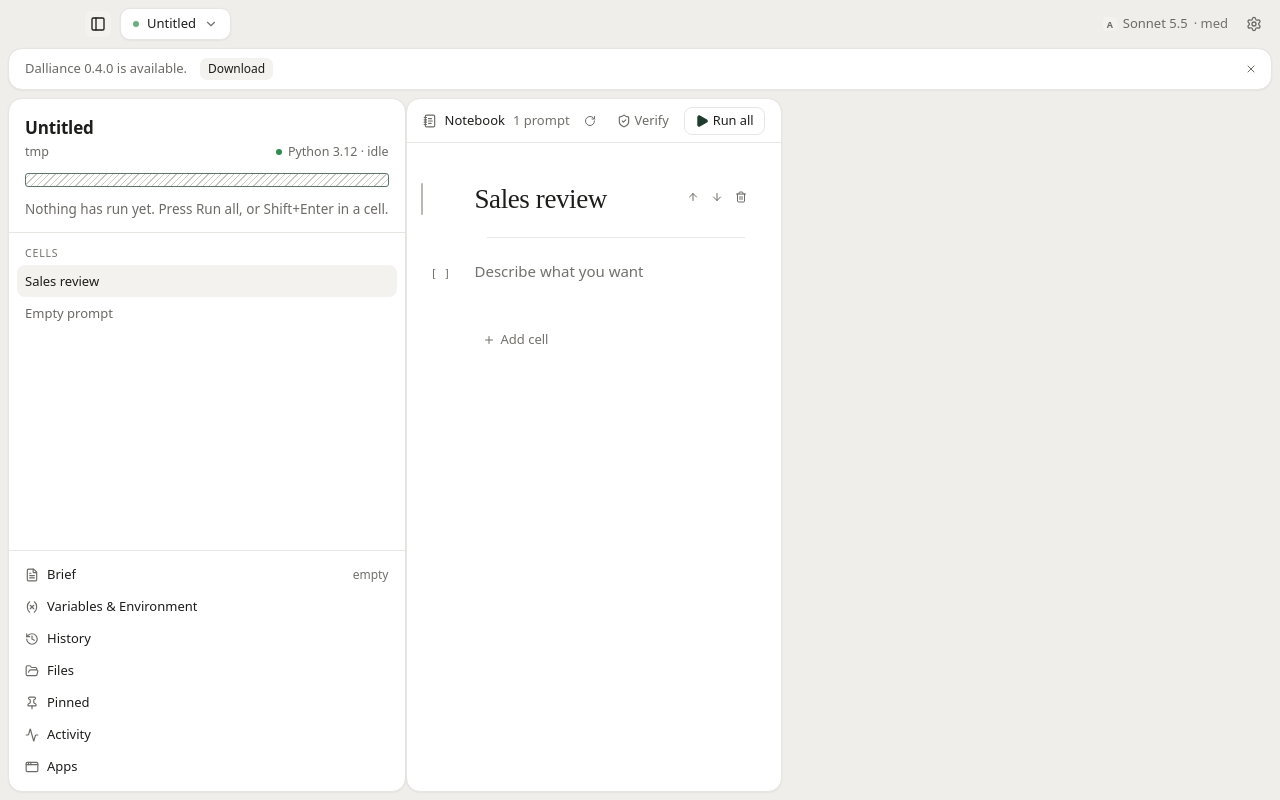
a newer release › offers the download, and hides that version once dismissed
Expected: the text "Dalliance 0.4.0 is available." is shown, top-left (25, 59), bottom-right (187, 79)
Click the button "Download": (237, 69) top-left (199, 57), bottom-right (274, 81)
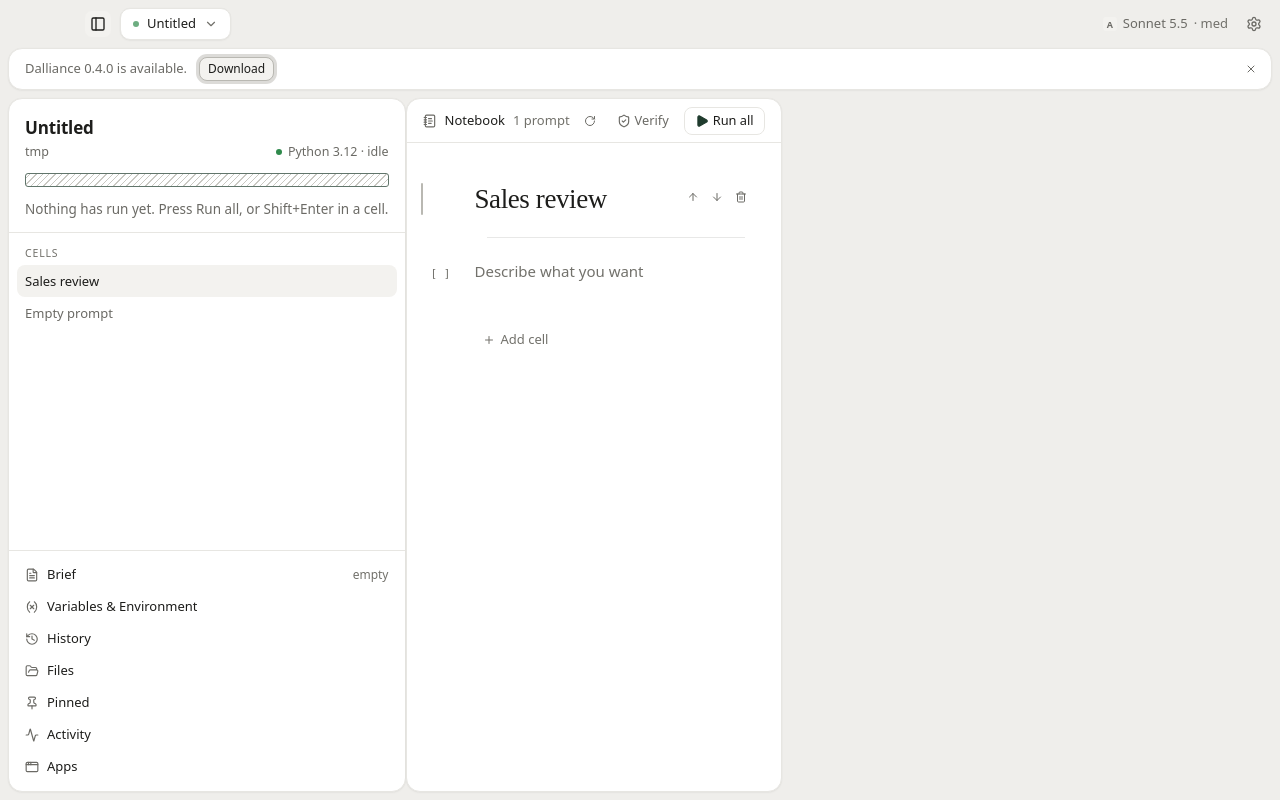
Click the button named "Dismiss update": (1251, 69) top-left (1239, 57), bottom-right (1263, 81)
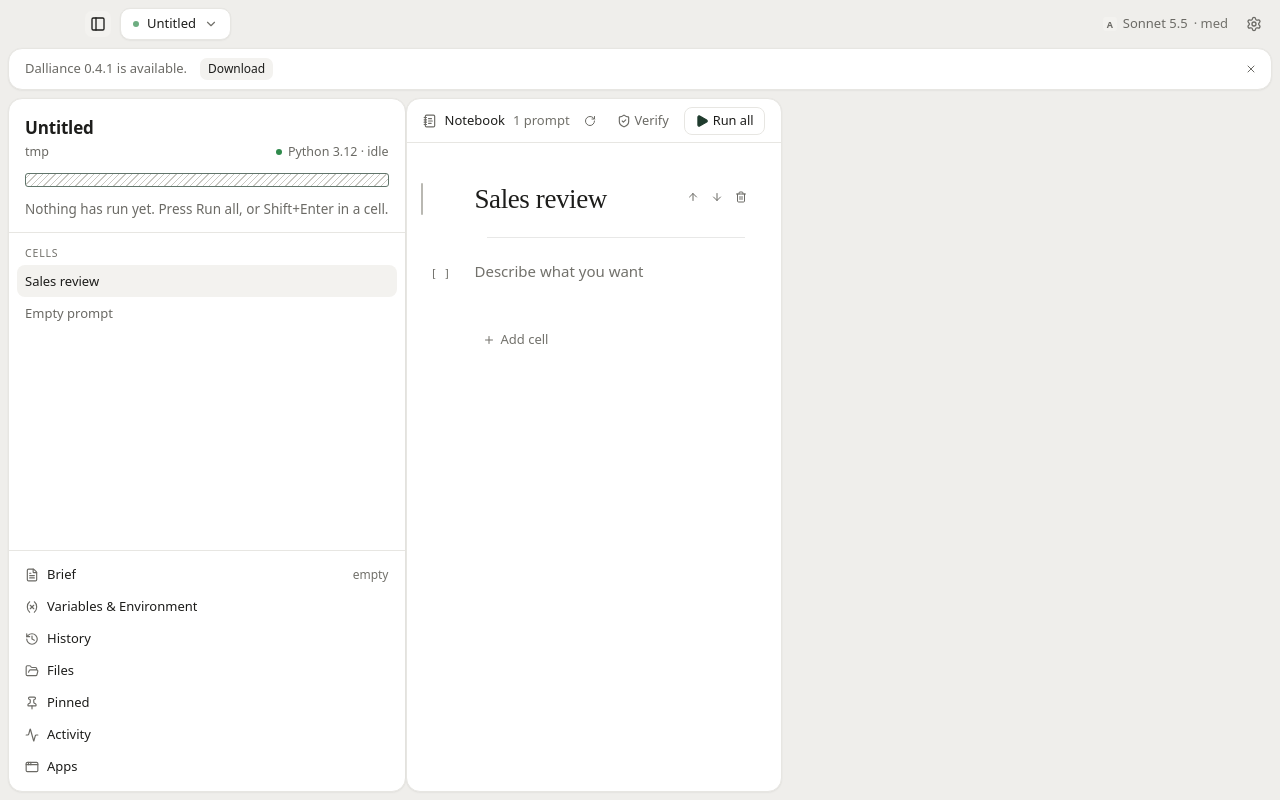
Result: the text "Dalliance 0.4.1 is available." is shown at top-left (25, 59), bottom-right (187, 79)
